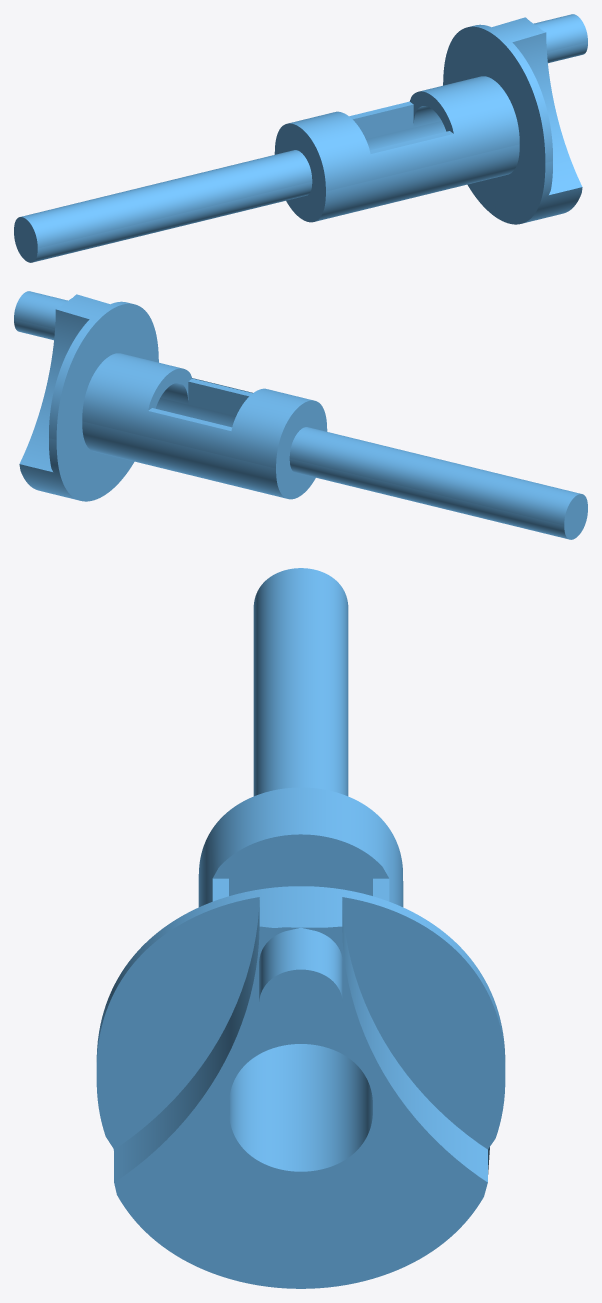
File: sample_02_cond.obj
3 renders of one model, top to bottom at view 1: azimuth 30°, elevation 25°; view 2: azimuth 150°, elevation 25°; view 3: azimuth 270°, elevation 25°, orthographic. The views are drawn at different scales.
Parts seen in each view (by area): view 1: mesh20, mesh14, mesh10, mesh11, mesh13, mesh6, mesh12, mesh8, mesh1, mesh23, mesh9, mesh17 (+5 smaller); view 2: mesh20, mesh14, mesh10, mesh11, mesh13, mesh4, mesh12, mesh8, mesh1, mesh18, mesh9, mesh17 (+5 smaller); view 3: mesh3, mesh5, mesh7, mesh14, mesh17, mesh20, mesh22, mesh8, mesh0, mesh4, mesh6, mesh1.
Boxes of the visible parts, x1,y1,x2,y2 form: mesh20: (288,76,519,191); mesh14: (21,150,312,248); mesh10: (443,26,545,224); mesh11: (316,144,519,221); mesh13: (33,181,312,262); mesh6: (512,32,582,194); mesh12: (274,123,325,222); mesh8: (469,17,552,162); mesh1: (534,14,587,51); mesh23: (353,104,413,139); mesh9: (524,161,582,222); mesh17: (366,121,446,150); mesh20: (82,353,313,468); mesh14: (289,427,580,525); mesh10: (56,303,158,501); mesh11: (82,421,285,498); mesh13: (289,458,568,539); mesh4: (19,309,89,471); mesh12: (276,400,327,499); mesh8: (49,294,132,439); mesh1: (14,291,67,328); mesh18: (188,381,248,416); mesh9: (19,438,77,499); mesh17: (155,398,235,427); mesh3: (114,926,487,1288); mesh5: (342,897,505,1149); mesh7: (96,897,259,1149); mesh14: (253,568,348,796); mesh17: (229,1044,372,1171); mesh20: (198,787,402,906); mesh22: (212,834,388,895); mesh8: (96,886,505,1061); mesh0: (259,969,342,1043); mesh4: (342,901,487,1182); mesh6: (114,900,259,1182); mesh1: (259,928,342,1001).
Bounding box in the file's own units: 0.002 × 0.000628 × 0.000642.
